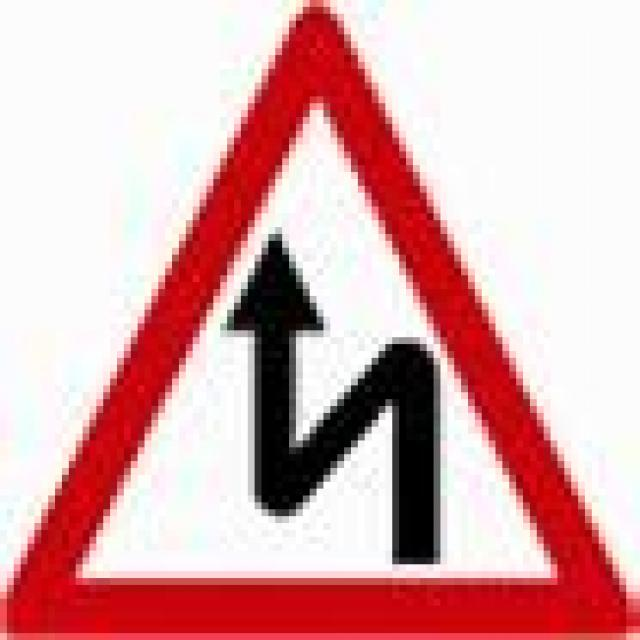LEFT_REVERSE_BEND: (0, 0, 633, 633)
